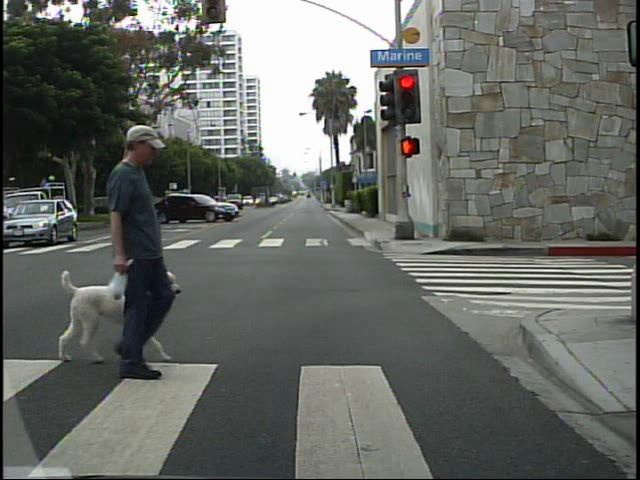person: (88, 115, 183, 382)
